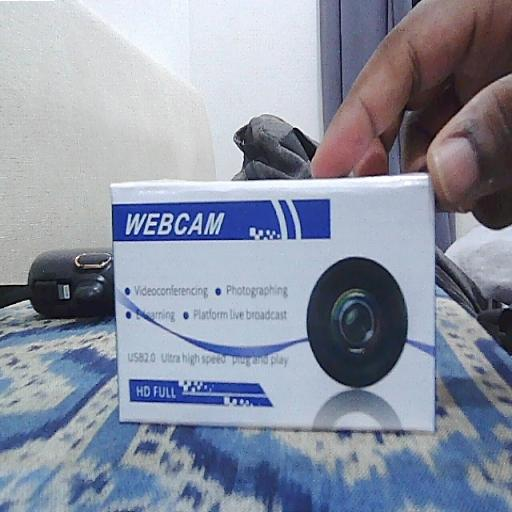webcam_box: (108, 174, 438, 435)
